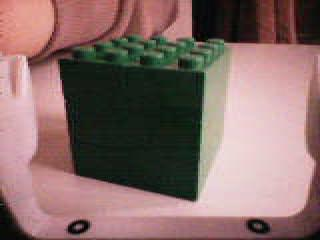legocube: (54, 34, 238, 206)
